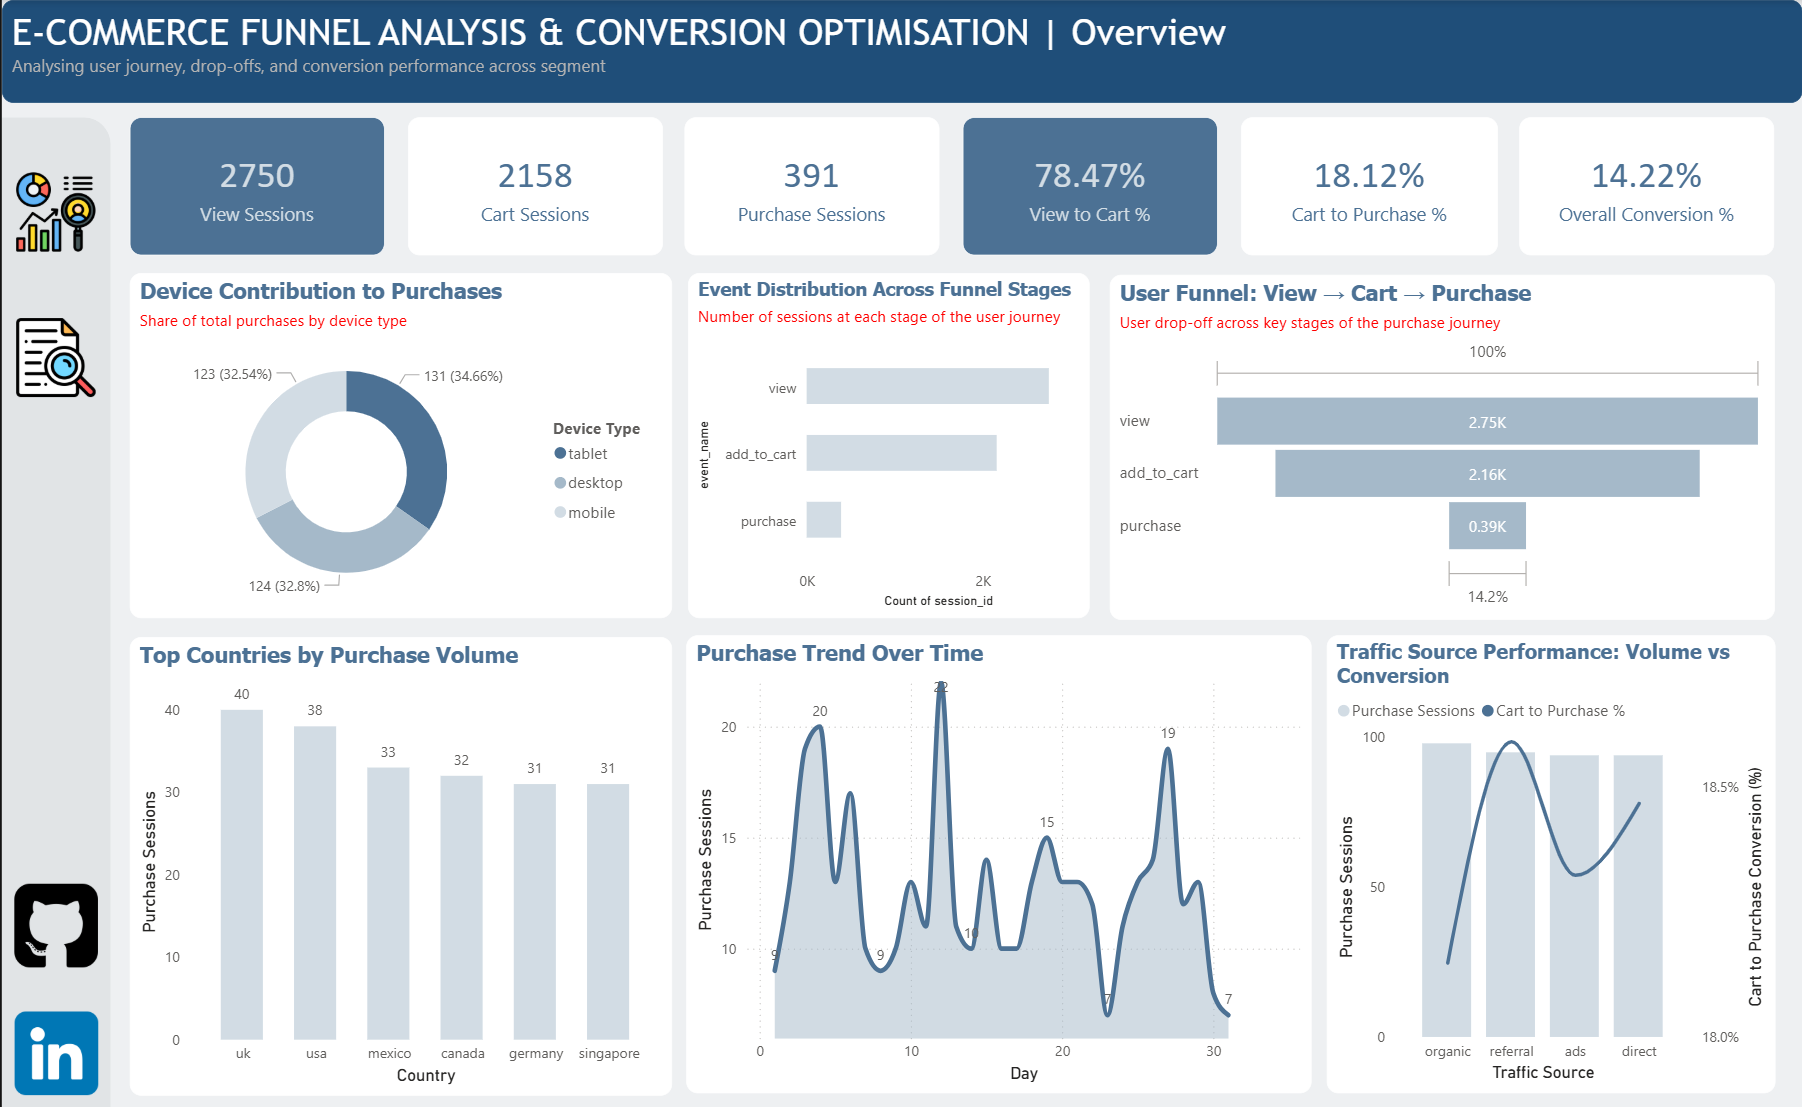

This screenshot's page, from the dashboard's own definition file:
{"tool":"powerbi","page":{"name":"Overview","canvas":[1550,960],"ordinal":0},"visuals":[{"type":"card","fields":{"Values":["cleaned_data.View Sessions"]},"box":[109.8,100.8,219.6,118.8],"z":0},{"type":"card","fields":{"Values":["cleaned_data.Purchase Sessions"]},"box":[587.9,100.8,219.6,118.8],"z":1000},{"type":"card","fields":{"Values":["cleaned_data.Cart Sessions"]},"box":[348.8,100.8,219.6,118.8],"z":2000},{"type":"card","fields":{"Values":["cleaned_data.View to Cart %"]},"box":[826.9,100.8,219.6,118.8],"z":3000},{"type":"card","fields":{"Values":["cleaned_data.Cart to Purchase %"]},"box":[1065.9,100.8,221.4,118.8],"z":4000},{"type":"card","fields":{"Values":["cleaned_data.Overall Conversion %"]},"box":[1306.8,100.8,219.6,118.8],"z":5000},{"type":"funnel","title":"User Funnel: View → Cart → Purchase","fields":{"Category":["cleaned_data.event_name"],"Y":["Count(cleaned_data.session_id)"]},"box":[954,235.8,572.4,297],"z":6000},{"type":"donutChart","title":"Device Contribution to Purchases","fields":{"Category":["cleaned_data.device_type"],"Y":["cleaned_data.Purchase Sessions"]},"box":[109.9,234.3,466.7,297.3],"z":7000},{"type":"lineChart","title":"Purchase Trend Over Time","fields":{"Y":["cleaned_data.Purchase Sessions"],"Category":["cleaned_data.event_timestamp.Variation.Date Hierarchy.Day"]},"box":[588.6,547.2,538.2,394.2],"z":8000},{"type":"shape","box":[0,100.8,93.6,873],"z":9000},{"type":"clusteredBarChart","title":"Event Distribution Across Funnel Stages","fields":{"Category":["cleaned_data.event_name"],"Y":["CountNonNull(cleaned_data.session_id)"]},"box":[591.1,234.3,346,297.3],"z":10000},{"type":"textbox","box":[0,0,1549.7,88.3],"z":11000},{"type":"lineClusteredColumnComboChart","title":"Traffic Source Performance: Volume vs Conversion","fields":{"Category":["cleaned_data.traffic_source"],"Y2":["cleaned_data.Cart to Purchase %"],"Y":["cleaned_data.Purchase Sessions"]},"box":[1140,547,386,394],"z":12000},{"type":"clusteredColumnChart","title":"Top Countries by Purchase Volume","fields":{"Category":["cleaned_data.country"],"Y":["cleaned_data.Purchase Sessions"]},"box":[109.9,547.8,466.7,394.6],"z":13000},{"type":"image","box":[12.6,272.1,68.5,70.3],"z":14000},{"type":"image","box":[12.6,147.8,68.5,70],"z":15000},{"type":"image","box":[0,870.4,93.7,72.1],"z":16000},{"type":"image","box":[5.4,760.5,81.1,72.1],"z":17000}]}

Visuals, with their boxes in screenshot pixels (x1, y1, x2, y2), scaled from the page's 1550x960 canvas onto the 1802x1107 screenshot:
card - cleaned_data.View Sessions: <box>128,116,383,253</box>
card - cleaned_data.Purchase Sessions: <box>683,116,939,253</box>
card - cleaned_data.Cart Sessions: <box>406,116,661,253</box>
card - cleaned_data.View to Cart %: <box>961,116,1217,253</box>
card - cleaned_data.Cart to Purchase %: <box>1239,116,1497,253</box>
card - cleaned_data.Overall Conversion %: <box>1519,116,1775,253</box>
"User Funnel: View → Cart → Purchase" funnel: <box>1109,272,1775,614</box>
"Device Contribution to Purchases" donutChart: <box>128,270,670,613</box>
"Purchase Trend Over Time" lineChart: <box>684,631,1310,1086</box>
shape: <box>0,116,109,1106</box>
"Event Distribution Across Funnel Stages" clusteredBarChart: <box>687,270,1089,613</box>
textbox: <box>0,0,1801,102</box>
"Traffic Source Performance: Volume vs Conversion" lineClusteredColumnComboChart: <box>1325,631,1774,1085</box>
"Top Countries by Purchase Volume" clusteredColumnChart: <box>128,632,670,1087</box>
image: <box>15,314,94,395</box>
image: <box>15,170,94,251</box>
image: <box>0,1004,109,1087</box>
image: <box>6,877,101,960</box>
